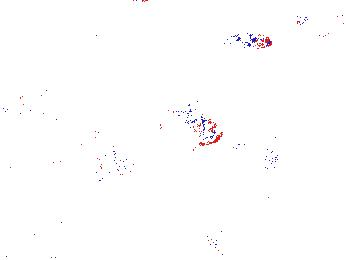X-ray fish: (142, 103, 224, 149), (74, 128, 135, 183), (199, 227, 248, 254), (7, 229, 41, 255)
red belly glassfish: (234, 30, 273, 50)
redtail glassfish: (289, 8, 346, 37)
